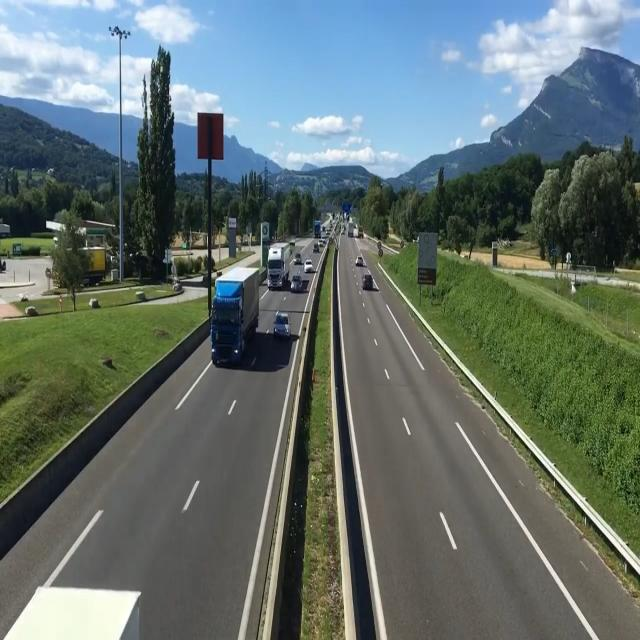car: (270, 309, 294, 347), (290, 270, 304, 296), (361, 272, 376, 294), (301, 255, 316, 275), (354, 252, 364, 272)
truck: (210, 265, 255, 364), (264, 242, 290, 291)
